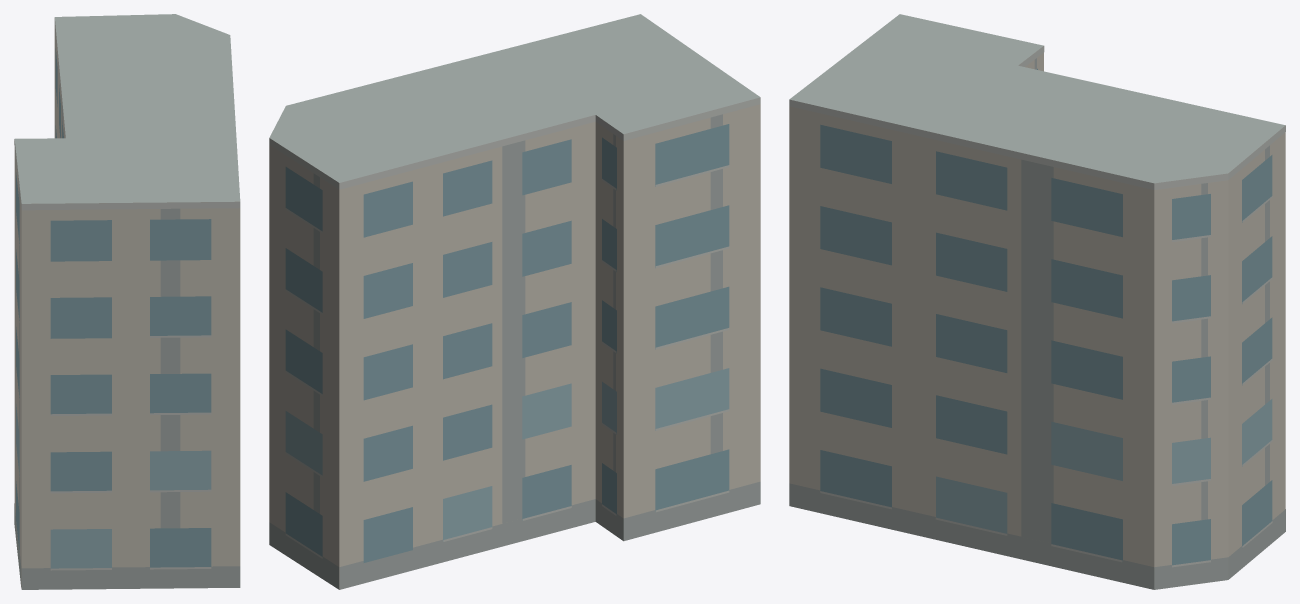
File: survey-upis-32733904.glb
The picture shows the model from 3 angles, left to right: view 1: azimuth 30°, elevation 25°; view 2: azimuth 150°, elevation 25°; view 3: azimuth 270°, elevation 25°; orthographic projection. The views are drawn at different scales.
Parts seen in each view (by area): view 1: survey-upis-32733904.tmp; view 2: survey-upis-32733904.tmp; view 3: survey-upis-32733904.tmp.
Part boxes in pixels (bbox=[...]): survey-upis-32733904.tmp: bbox=[14, 14, 240, 589]; survey-upis-32733904.tmp: bbox=[269, 14, 760, 589]; survey-upis-32733904.tmp: bbox=[789, 14, 1285, 589].
Bounding box in the file's own units: 13.14 × 14.7 × 16.28.
